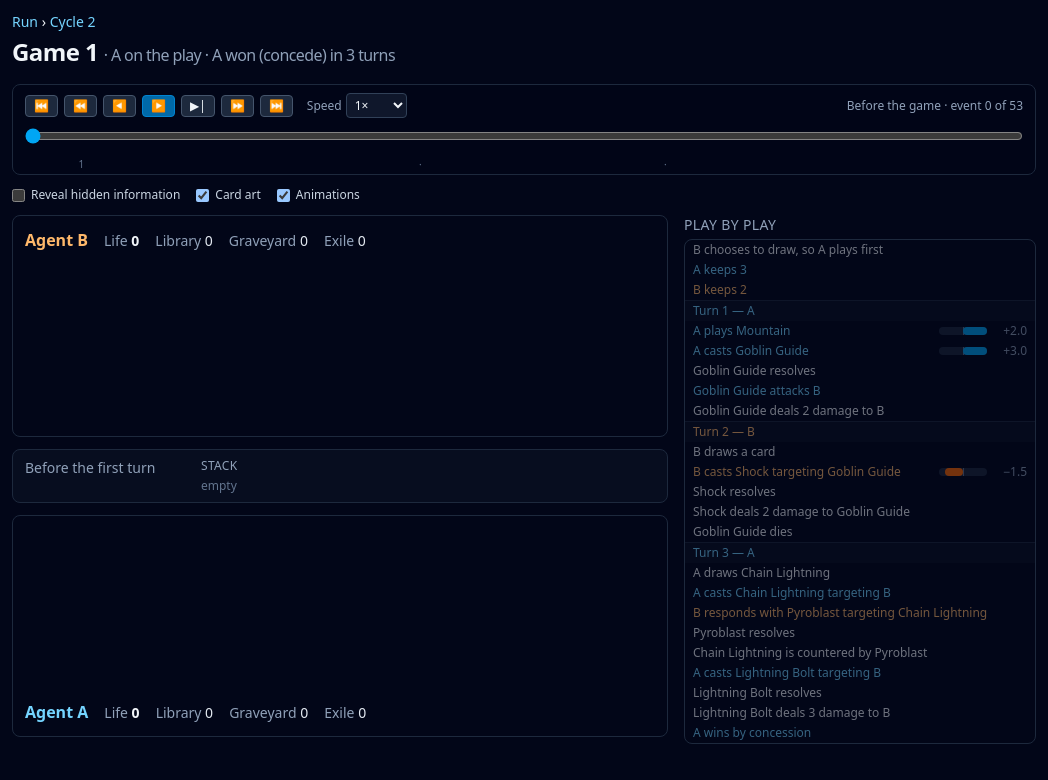
the replay of a game › shows combat, damage and life, and the end, as the game reaches them
Expected: the element named "Transport" is shown, left=12, top=84, right=1036, bottom=175
Set the slider named "Position" to "17" at (348, 136), box left=25, top=128, right=1023, bottom=144
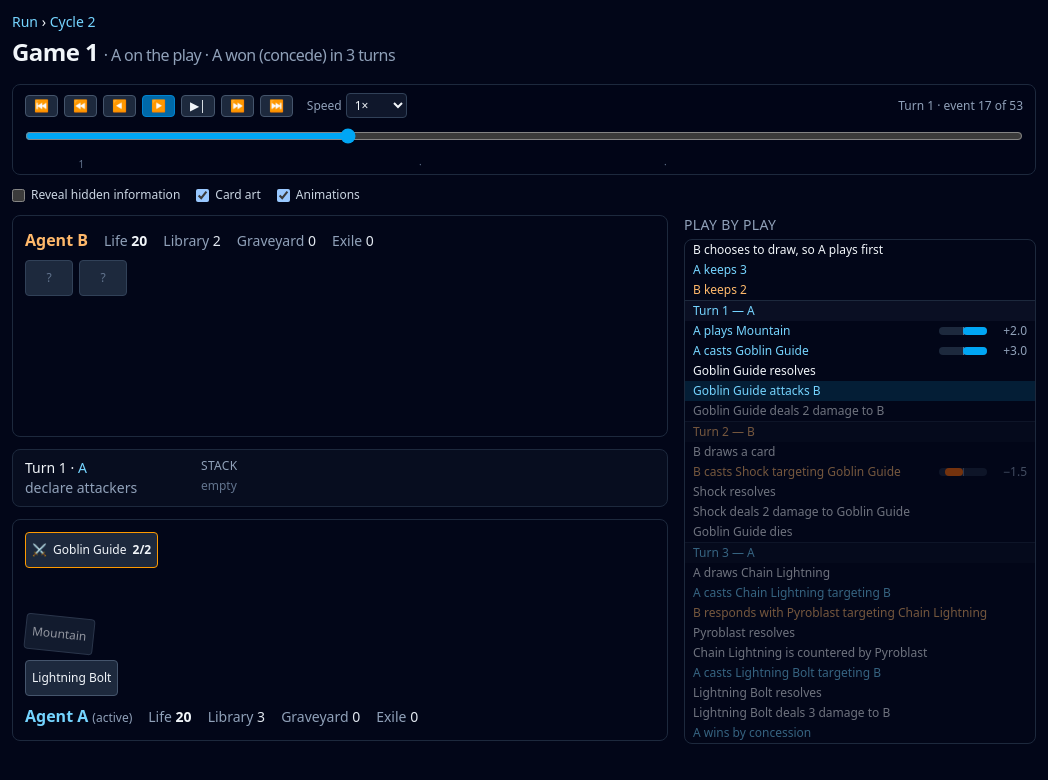
Set the slider named "Position" to "31" at (607, 136), box left=25, top=128, right=1023, bottom=144
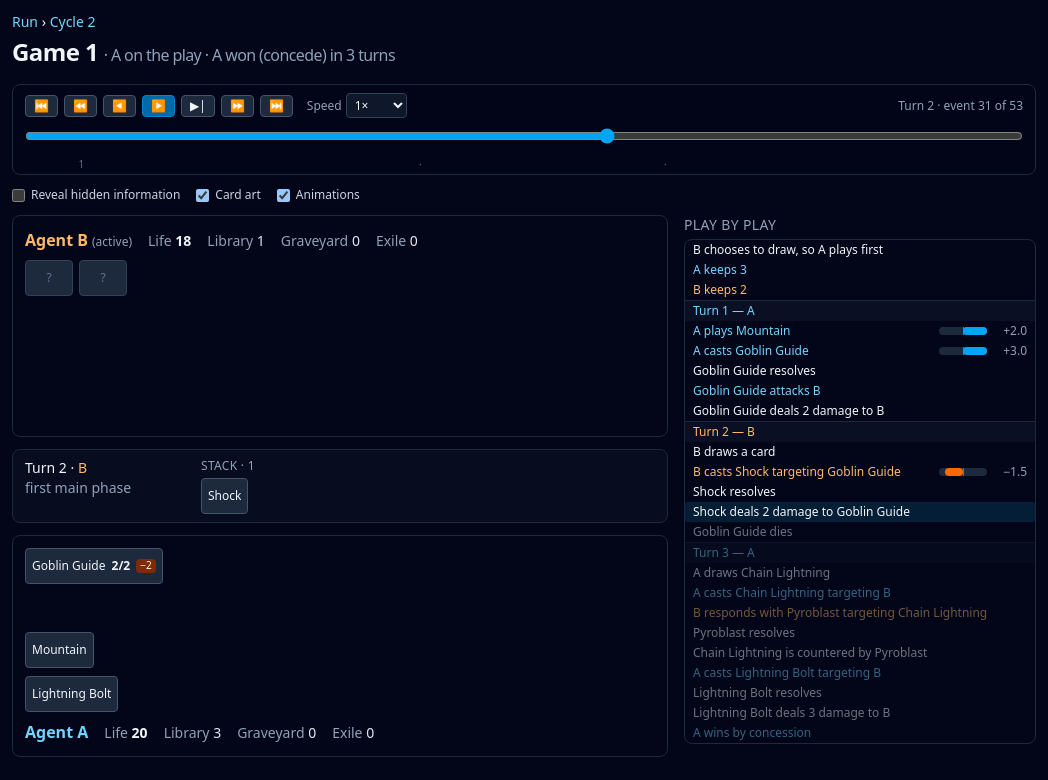
Result: the element with test id "life-B" reads "Life 18" at left=148, top=231, right=191, bottom=251
Click the button named "End" at (276, 106), box left=260, top=94, right=293, bottom=116
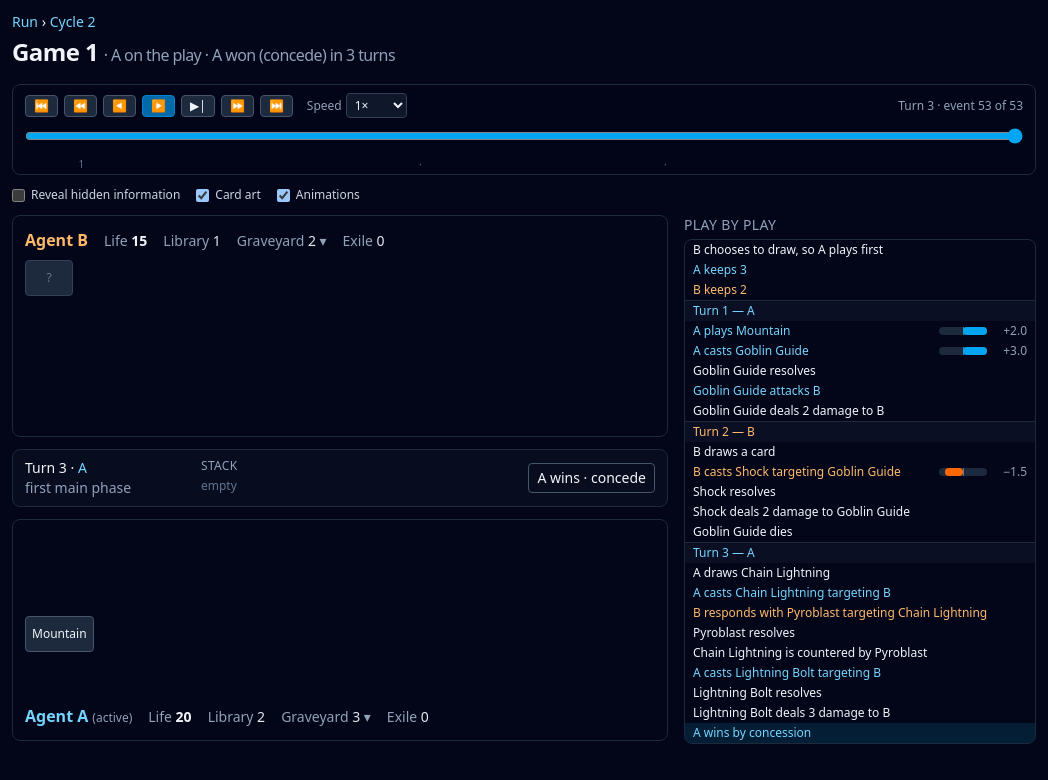
Result: the button with aria-label "A graveyard: 3" is shown at left=281, top=707, right=371, bottom=727
Result: the element with test id "life-B" reads "Life 15" at left=104, top=231, right=147, bottom=251
Result: the element with test id "board" shows "A wins · concede" at left=12, top=215, right=668, bottom=744
